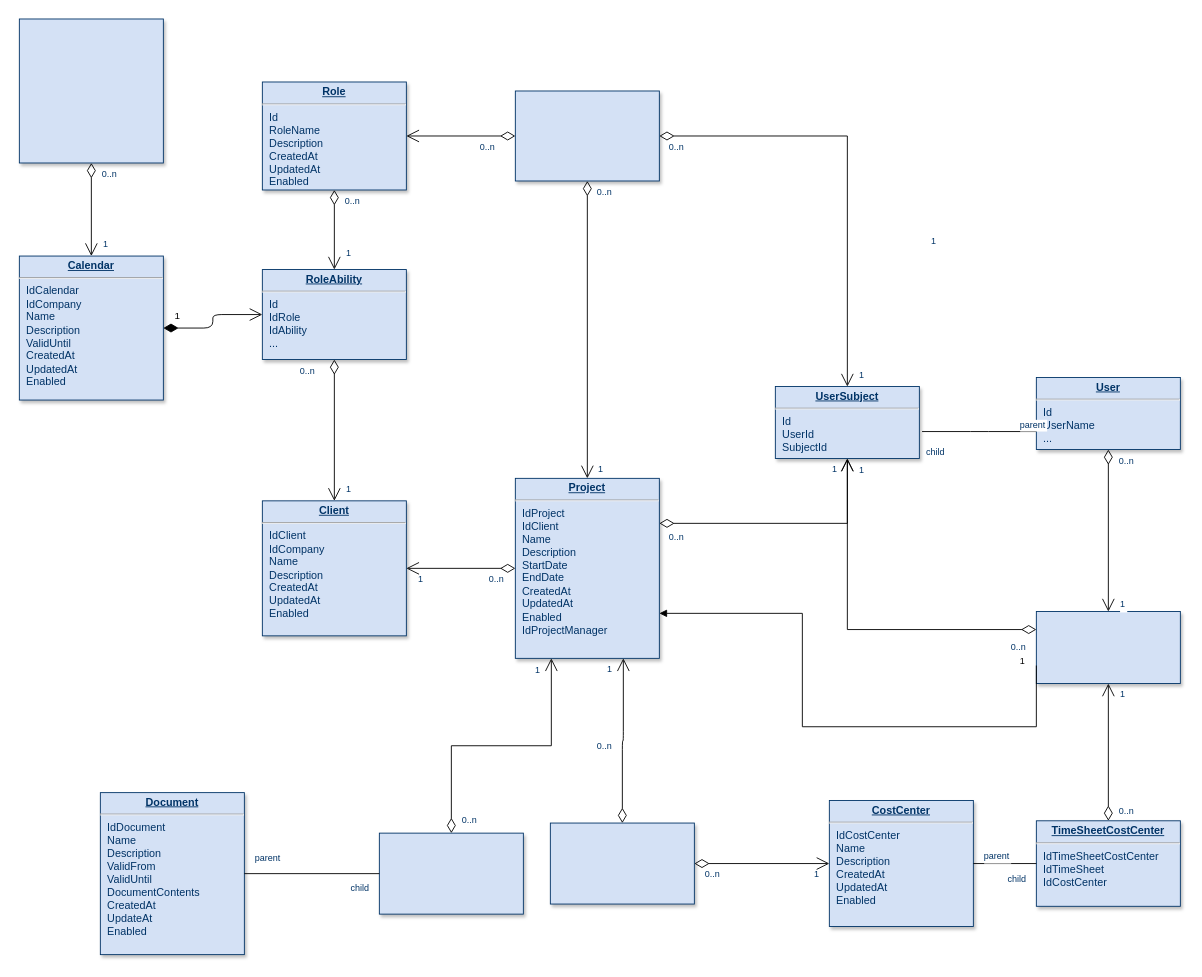
Image size: 1202x977. Some labels were removed from this diagram. The centre of each missing label's shape, as x and y in pixels:
"Holiday IdHoliday IdCalendar Name Description Date CreatedAt UpdatedAt Enabled" belongs at [92,91].
"ProjectCostCenter IdProjectCostCenter IdProject IdCostCenter" belongs at [623,864].
"ProjectDocument IdProjectDocument IdProject IdDocument" belongs at [452,874].
"Subject Id SubjectName ..." belongs at [1109,648].
"UserSubjectRole Id IdUserSubject IdRole ..." belongs at [588,136].
